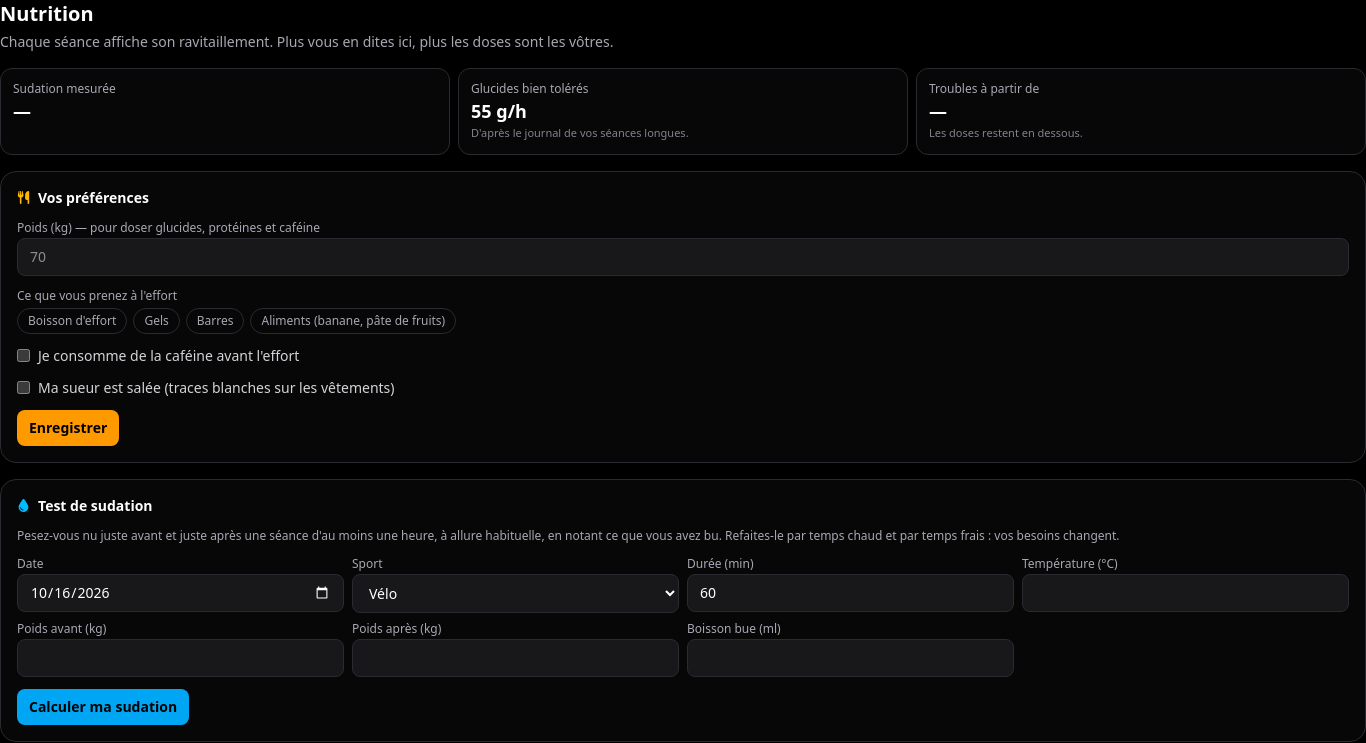
Test: page Nutrition › enregistre un test de sudation et en donne le résultat
Expected: the text "55 g/h" is shown, 471,99 -> 527,123
Type "72" into the field labelled "Poids avant (kg)" at {"x": 180, "y": 658}, box 17,638 -> 344,676
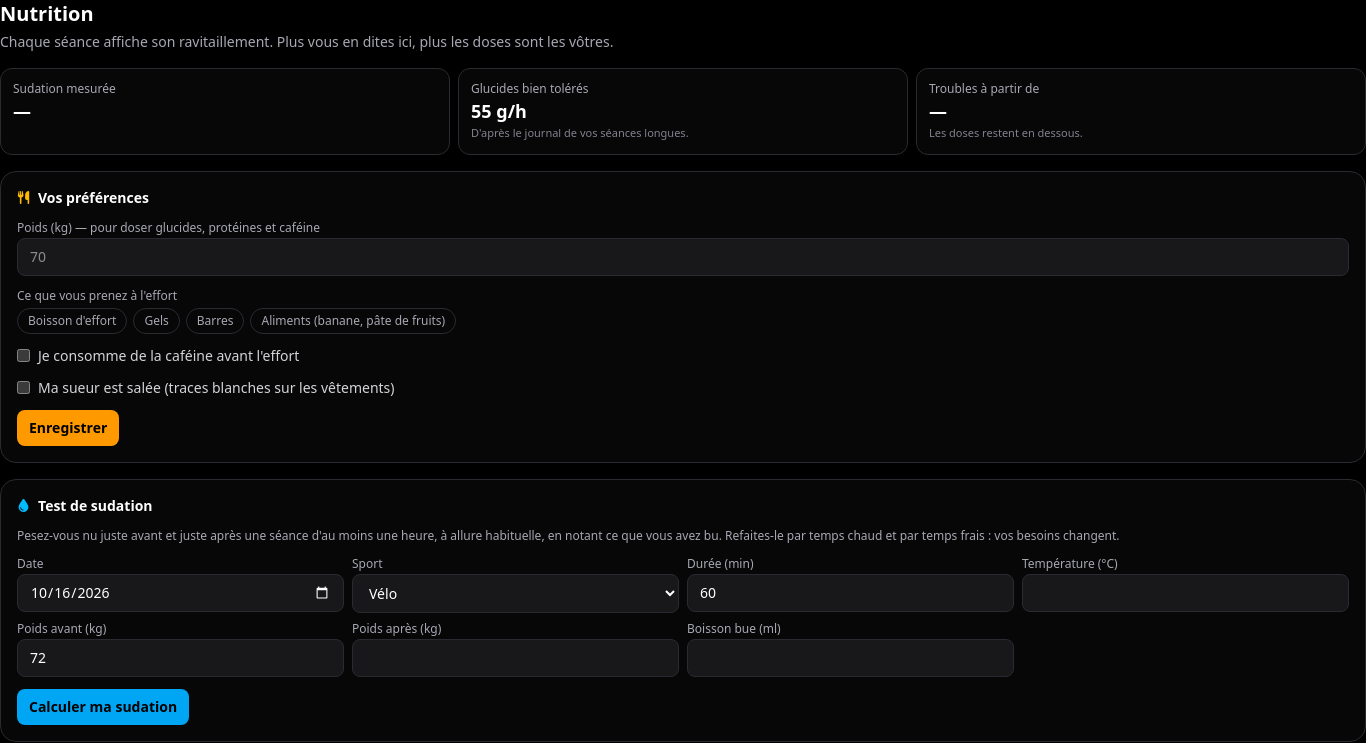
Type "71,2" into the field labelled "Poids après (kg)" at {"x": 516, "y": 658}, box 352,638 -> 679,676
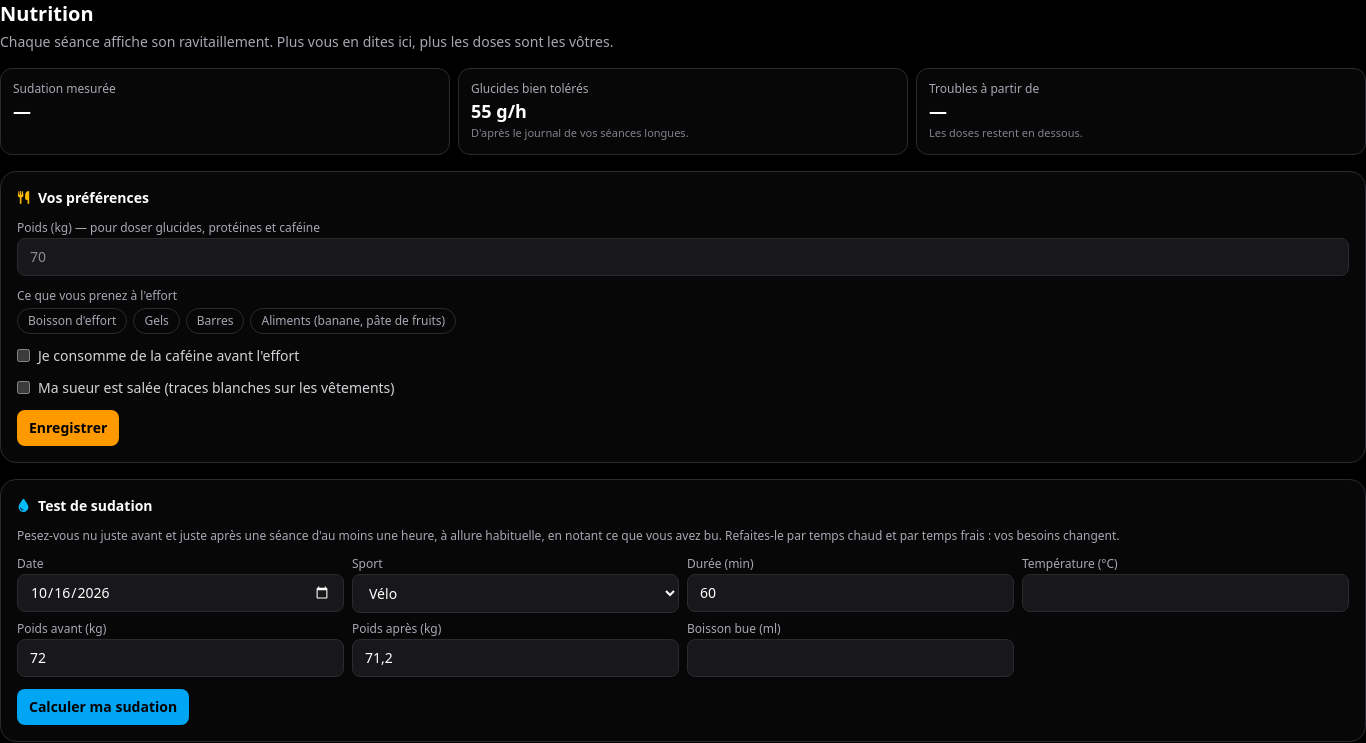
Type "400" into the field labelled "Boisson bue (ml)" at {"x": 850, "y": 658}, box 687,638 -> 1014,676
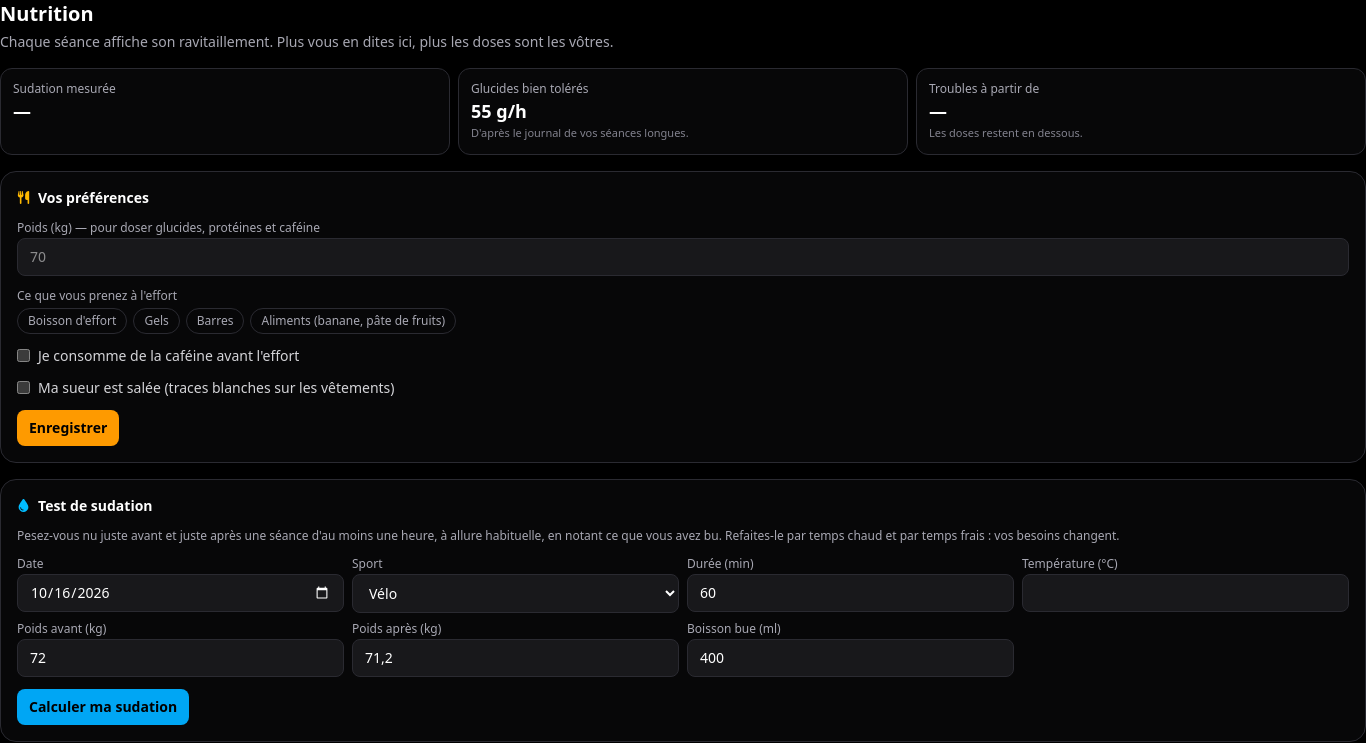
Click the button "Calculer ma sudation" at {"x": 103, "y": 706}, box 17,688 -> 189,724
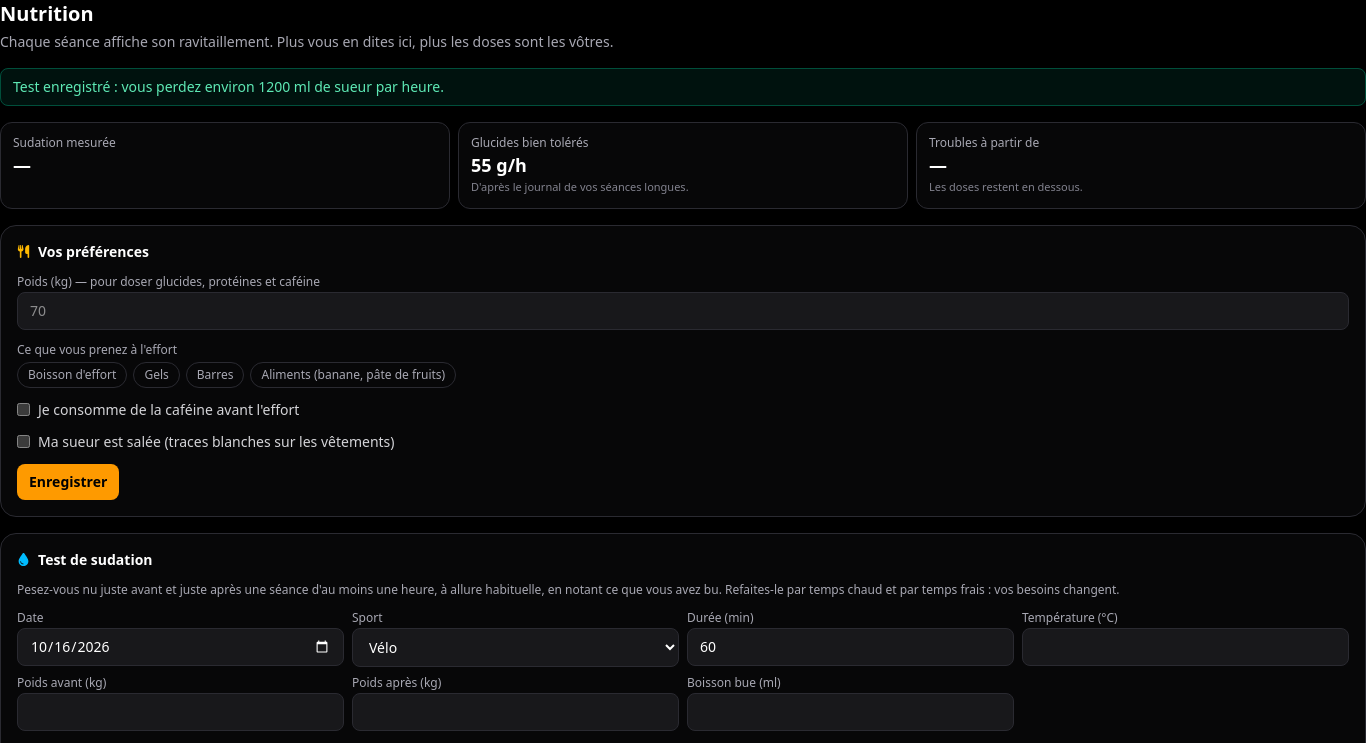
Now the text "environ 1200 ml de sueur par heure" is shown, box 13,77 -> 444,96
